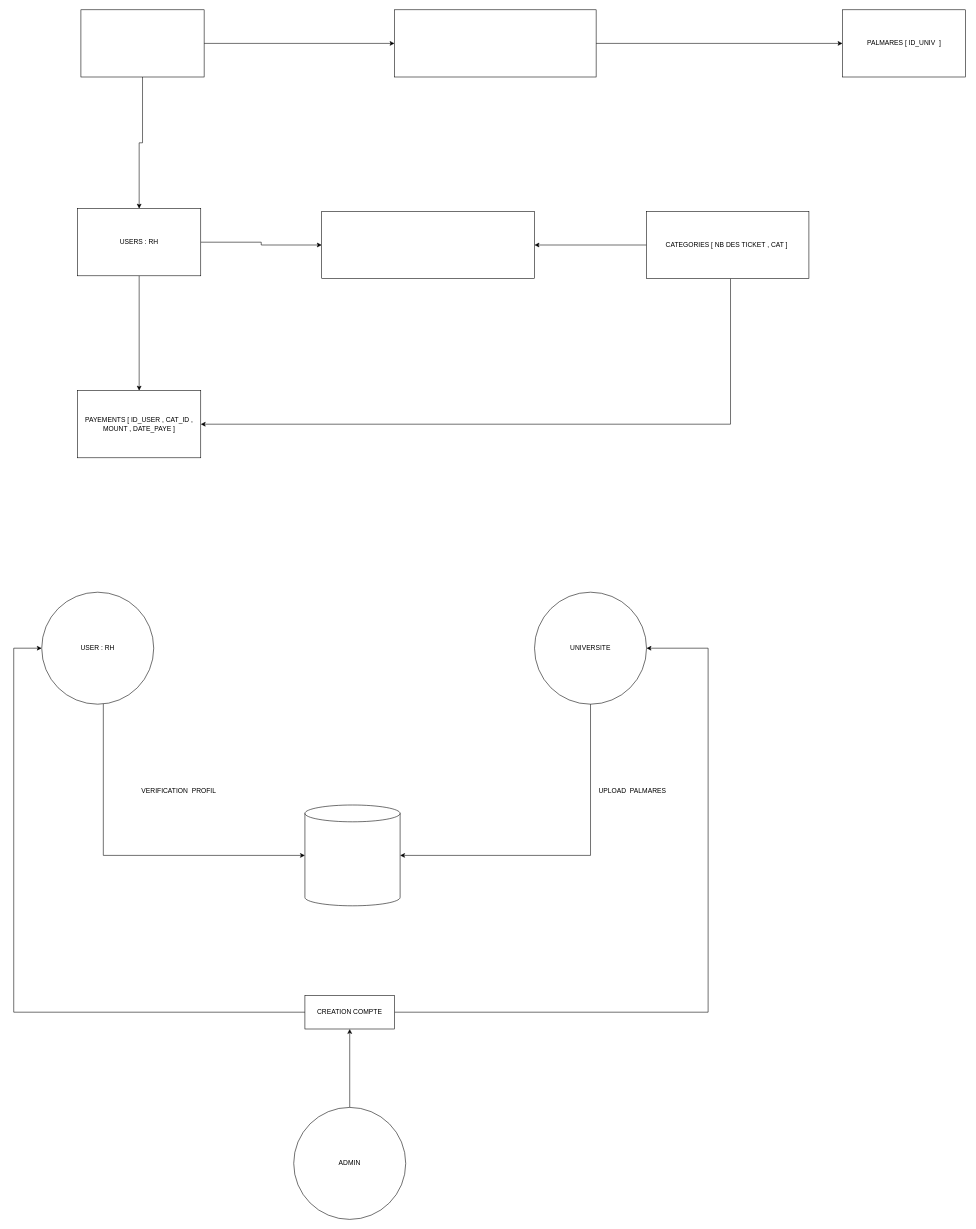
The diagram is 976 pixels wide and 1229 high, and some of its shapes have lost their labels. The centre of each missing label's shape, as x and y in pixels:
"BASE DE DONNÉE" belongs at point (352, 855).
"ROLES [ ID_ROLE , NAME ]" belongs at point (142, 43).
"TICKETS [ ID_USER , CATEGORIE , Nb TICKETS ]" belongs at point (428, 245).
"UNIVERSITE [ ID_UNIV , LOGO , MATRICUL , DATE_ENREGISTRER ]" belongs at point (495, 43).
